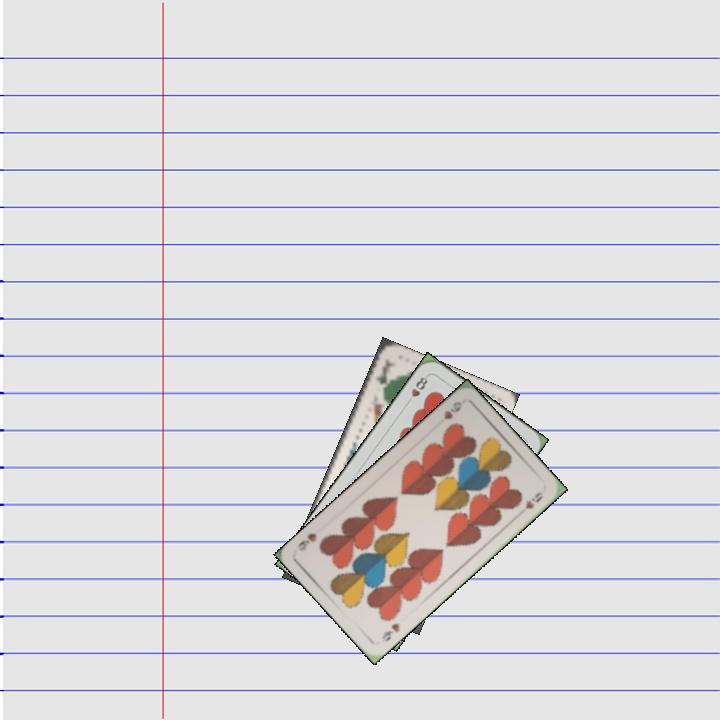GK: (371, 358, 390, 394)
H8: (403, 371, 431, 407)
H9: (378, 618, 403, 645), (440, 397, 464, 422)
